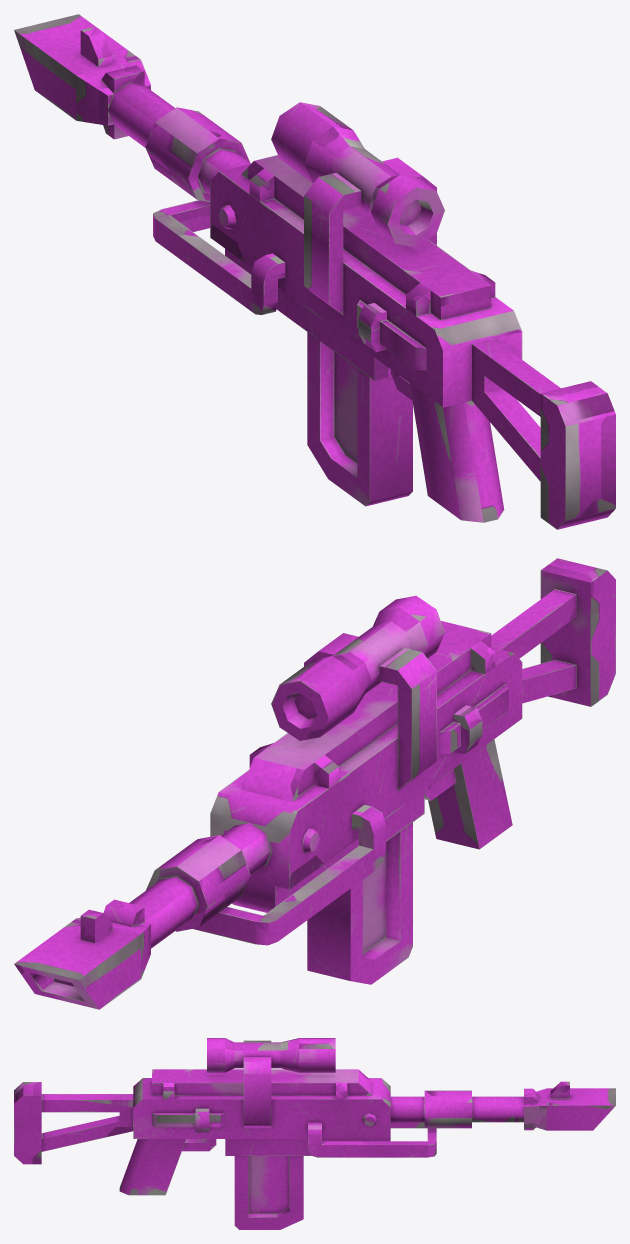
The model's file is blaster-f.glb.
3 views of the same model, one above another, from view 1: azimuth 30°, elevation 25°; view 2: azimuth 150°, elevation 25°; view 3: azimuth 270°, elevation 25° (orthographic). The views are drawn at different scales.
Visible parts, largest first — view 1: blaster-f, scope, magazine; view 2: blaster-f, scope, magazine; view 3: blaster-f, scope, magazine.
Part boxes in pixels (<box>): blaster-f: <box>14,14,615,529</box>; scope: <box>271,102,444,315</box>; magazine: <box>307,332,412,506</box>; blaster-f: <box>14,558,615,1009</box>; scope: <box>271,595,444,790</box>; magazine: <box>307,822,412,984</box>; blaster-f: <box>14,1069,615,1195</box>; scope: <box>207,1038,335,1128</box>; magazine: <box>234,1156,303,1229</box>.
Bounding box in the file's own units: 0.17 × 0.445 × 1.31.
1 material, 1 textured.
